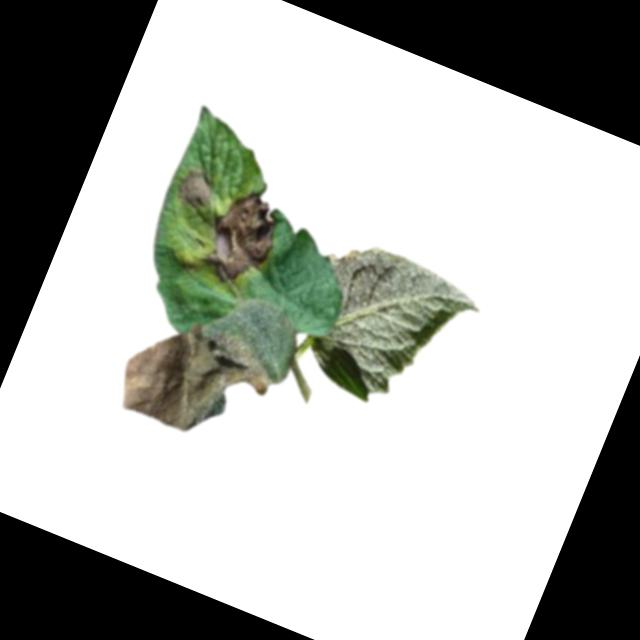Late_blight: (99, 258, 308, 461), (190, 178, 289, 297), (171, 163, 220, 213)
healthy: (277, 228, 488, 431)
